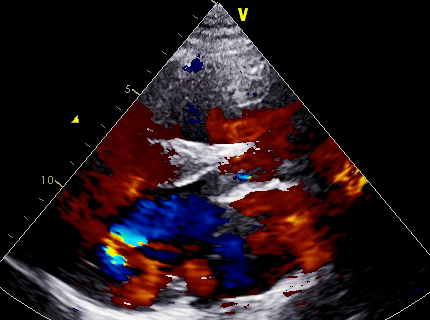AR: (207, 145, 324, 208)
